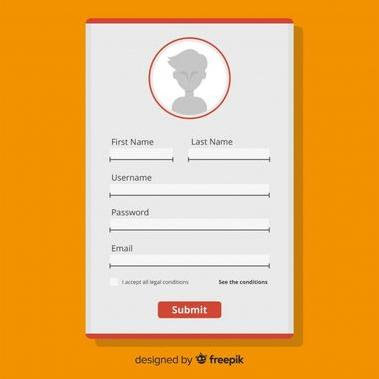button: (156, 300, 225, 319)
checkbox: (109, 277, 117, 285)
checkbox_with_label: (106, 275, 189, 287)
field: (108, 208, 270, 233), (107, 245, 271, 269), (108, 174, 271, 198), (186, 137, 272, 162), (108, 137, 175, 164)
